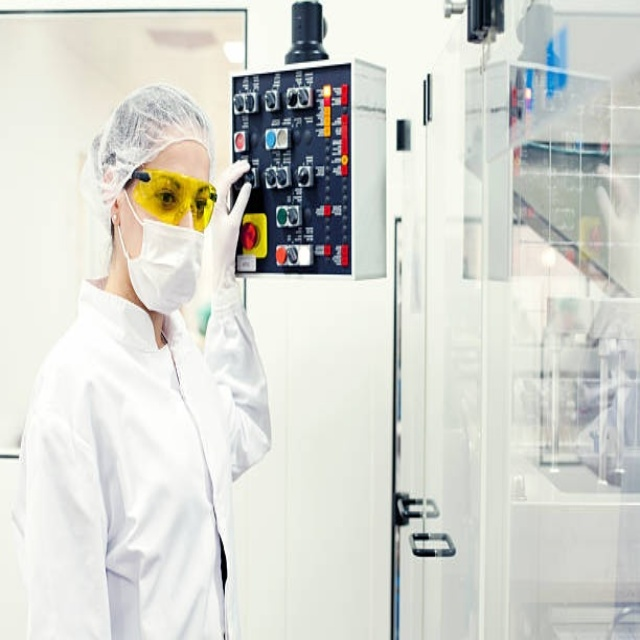Gafas: (125, 168, 219, 233)
Guantes: (202, 160, 255, 301)
Mascara: (118, 184, 205, 314)
